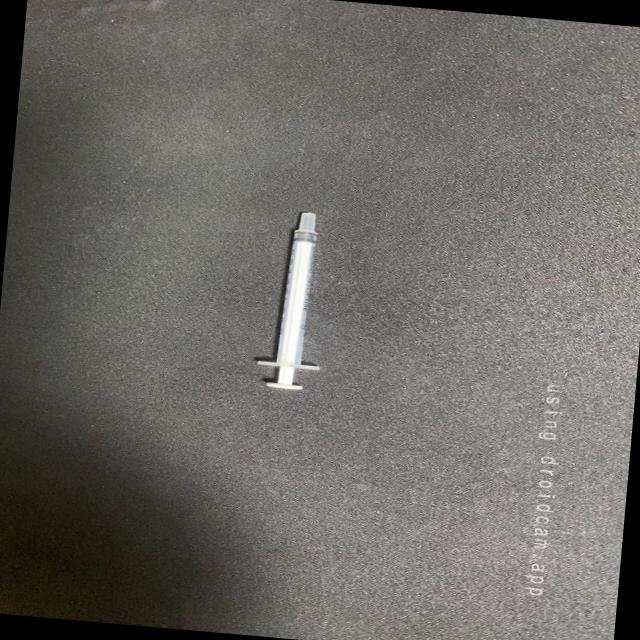syringe: (244, 200, 343, 399)
